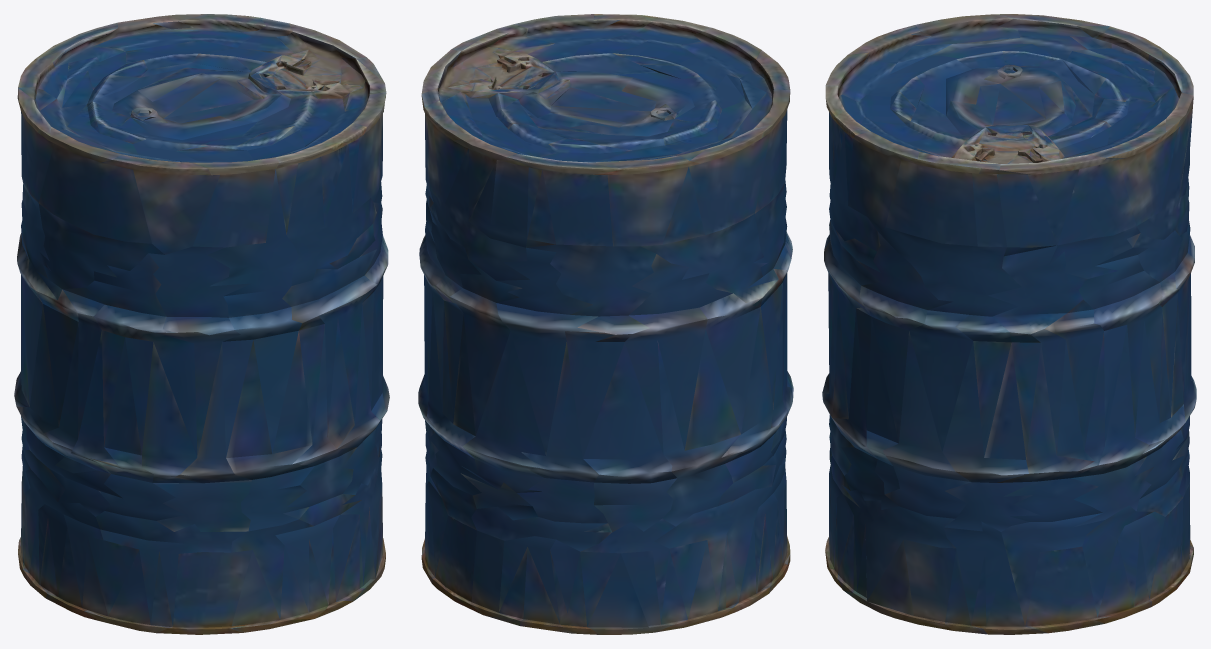
File: barrel_blue.glb
3 views of the same model, side by side, from view 1: azimuth 30°, elevation 25°; view 2: azimuth 150°, elevation 25°; view 3: azimuth 270°, elevation 25° (orthographic).
Parts seen in each view (by area): view 1: Mesh_0; view 2: Mesh_0; view 3: Mesh_0.
Boxes of the visible parts, x1=… form: Mesh_0: x1=14, y1=14, x2=389, y2=634; Mesh_0: x1=418, y1=14, x2=793, y2=634; Mesh_0: x1=822, y1=14, x2=1196, y2=634.
Bounding box in the file's own units: 1.38 × 1.9 × 1.38.
1 material, 1 textured.
